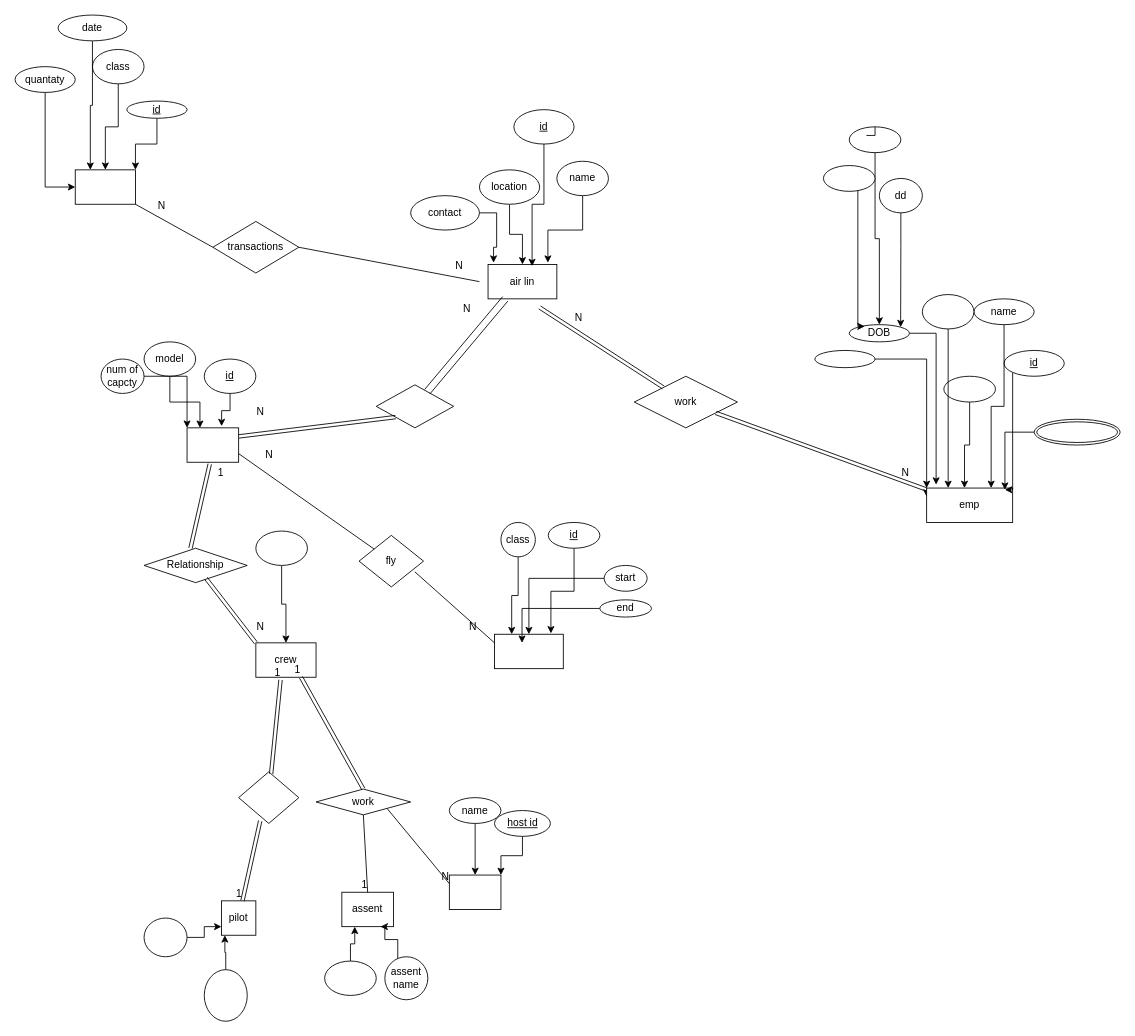
Some shapes in this 1135 by 1036 pixel diagram are drawn without their labels. Here are the shapes that lost their labels. From the top down, the box of each, then its label:
(848, 126, 901, 153): mm
(74, 169, 135, 204): sel/buy transaction
(823, 165, 875, 191): yy
(921, 294, 974, 329): gender
(814, 350, 875, 368): jop title
(375, 384, 454, 428): own
(943, 375, 995, 402): address
(186, 427, 239, 462): air craft
(1033, 418, 1120, 445): qualification
(255, 530, 307, 565): id crew
(494, 633, 563, 669): rout
(238, 771, 299, 823): lead
(448, 874, 501, 909): host
(143, 917, 187, 957): pilot id
(203, 969, 247, 1021): pilot name
(324, 960, 376, 995): asent id
